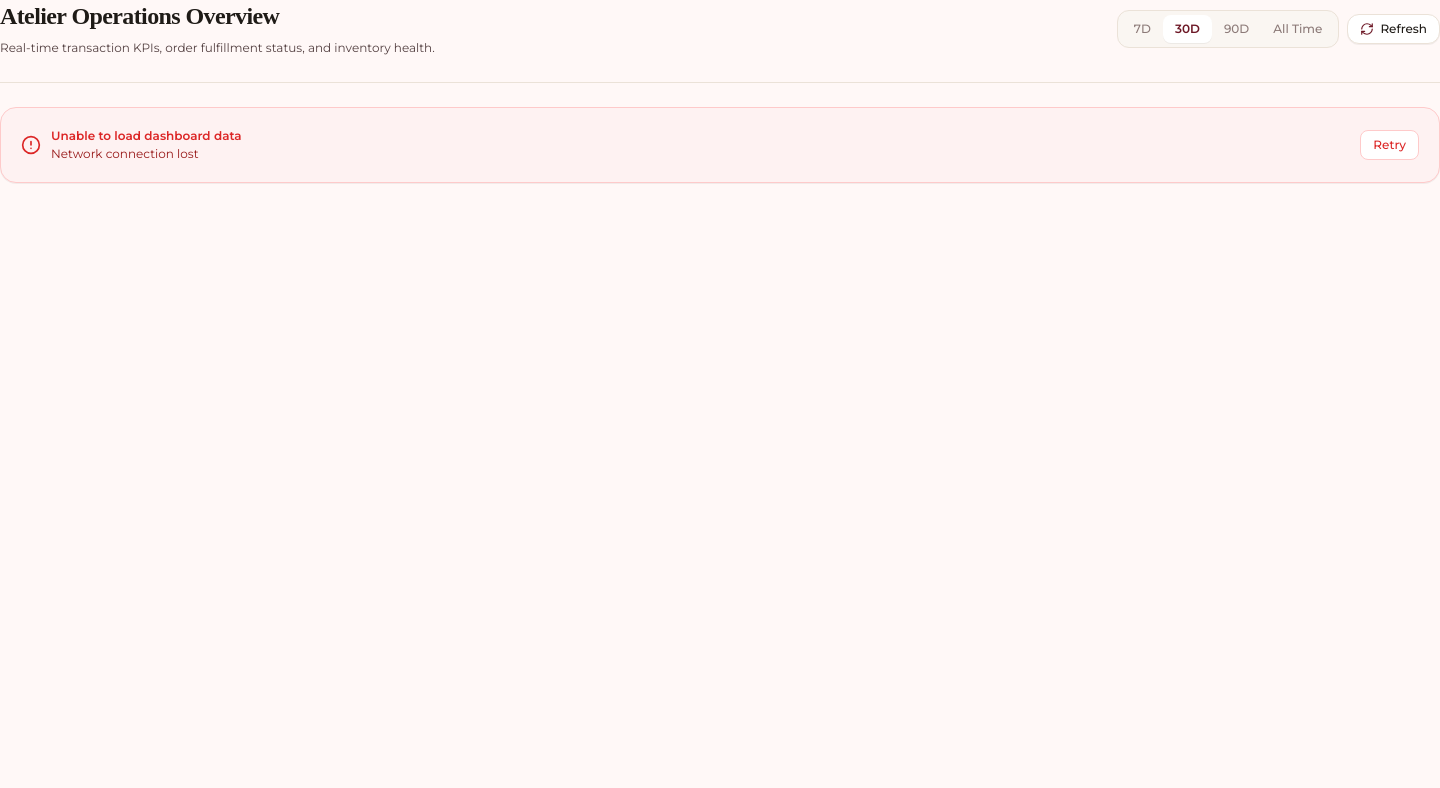
Scenario: Admin Dashboard Overview Integration › handles API error state with error notification and working retry button
Expected: the text "Unable to load dashboard data" is shown, x1=51 y1=128 x2=242 y2=144
Expected: the text "Network connection lost" is shown, x1=51 y1=146 x2=198 y2=160
Click the button "Retry" at (1390, 144), box x1=1360 y1=130 x2=1419 y2=160
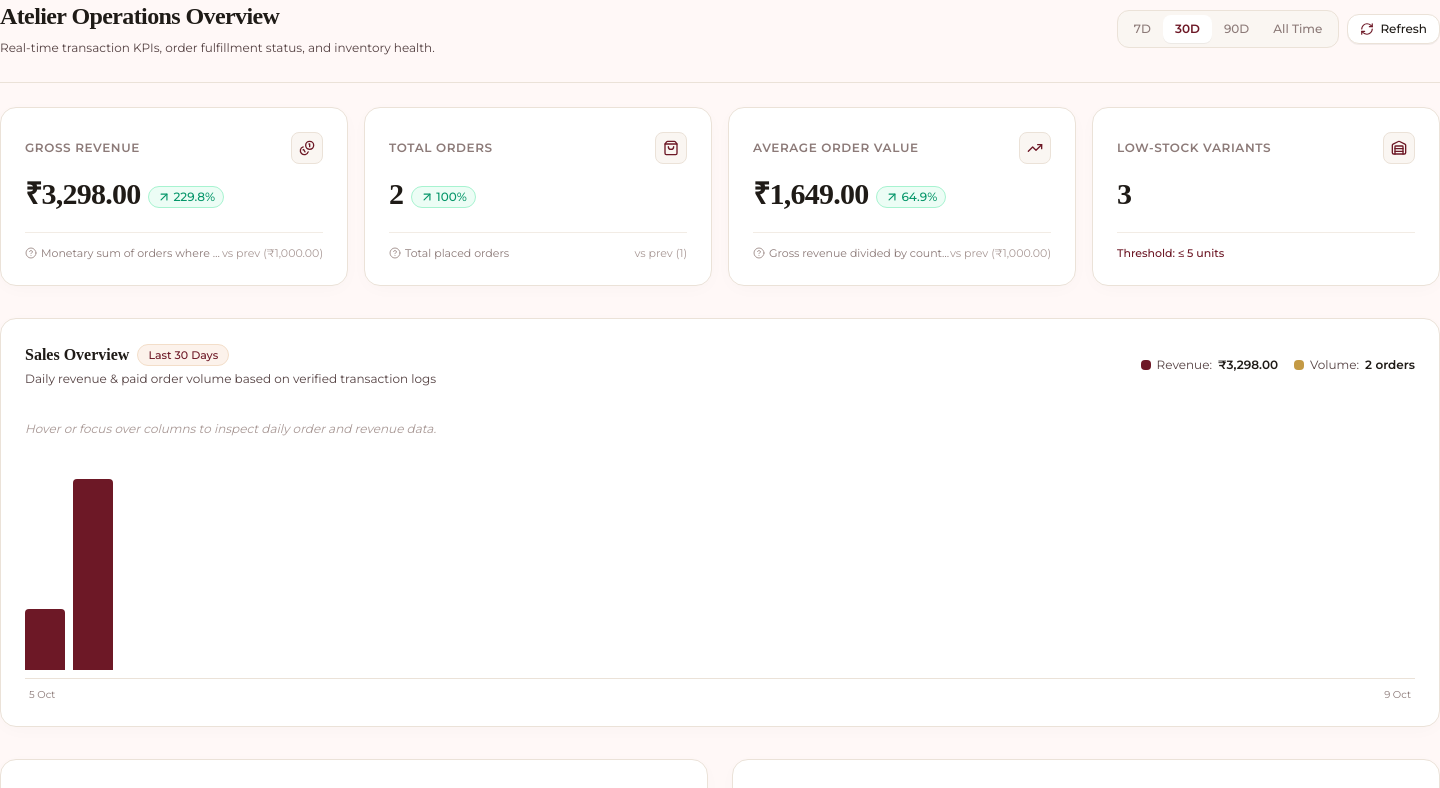
Expected: the text "₹3,298.00" next to "229.8" is shown, x1=25 y1=176 x2=140 y2=210
